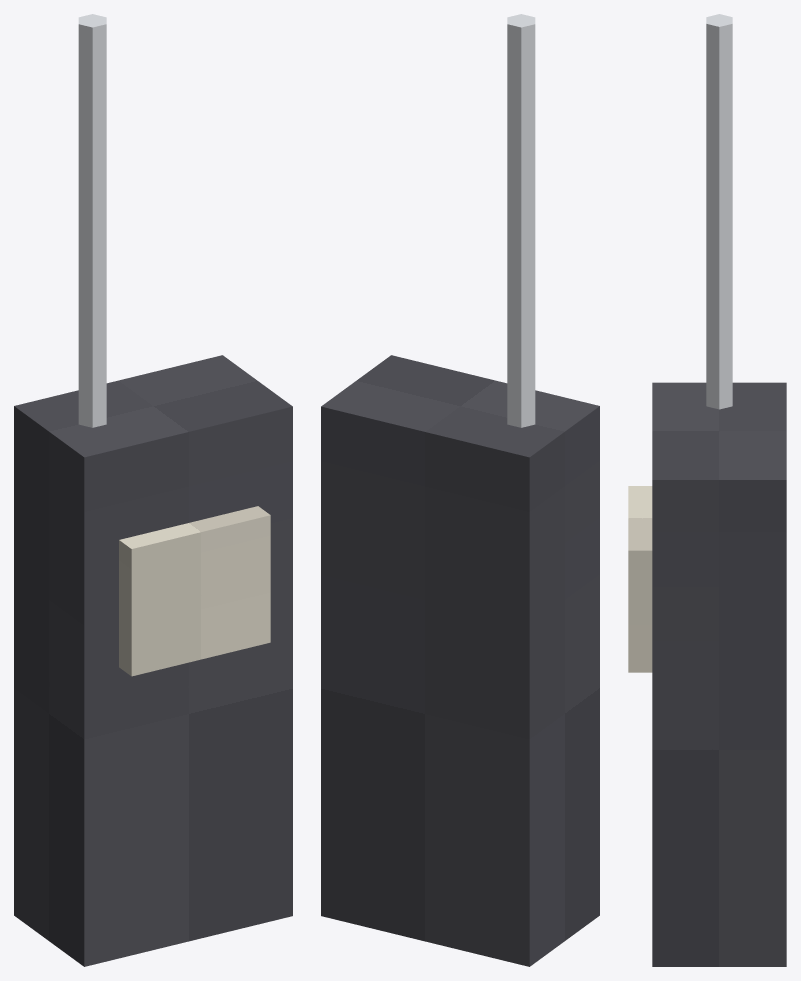
File: retro-arcade-and-mall-1989-walkie-talkie-d0448d40__15567.glb
3 renders of one model, left to right at view 1: azimuth 30°, elevation 25°; view 2: azimuth 150°, elevation 25°; view 3: azimuth 270°, elevation 25°, orthographic. The views are drawn at different scales.
Parts seen in each view (by area): view 1: walkie-talkie; view 2: walkie-talkie; view 3: walkie-talkie.
Part boxes in pixels (x1,y1,x2,y2): walkie-talkie: (14,14,292,966); walkie-talkie: (321,14,599,966); walkie-talkie: (628,14,786,966).
Bounding box in the file's own units: 0.12 × 0.5 × 0.0825.
3 materials, 2 textured.
